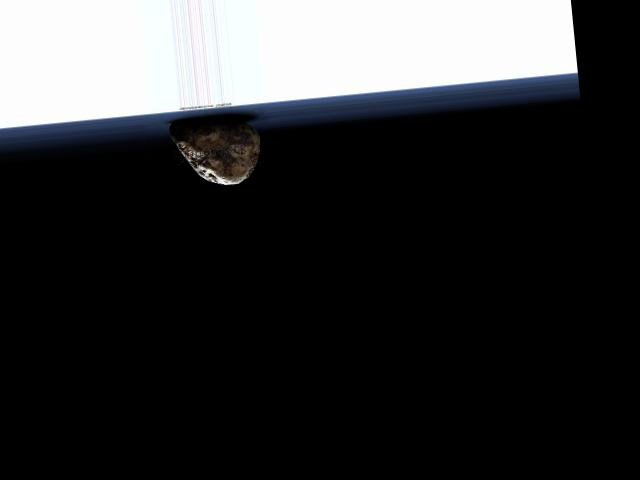beet: (170, 114, 265, 189)
